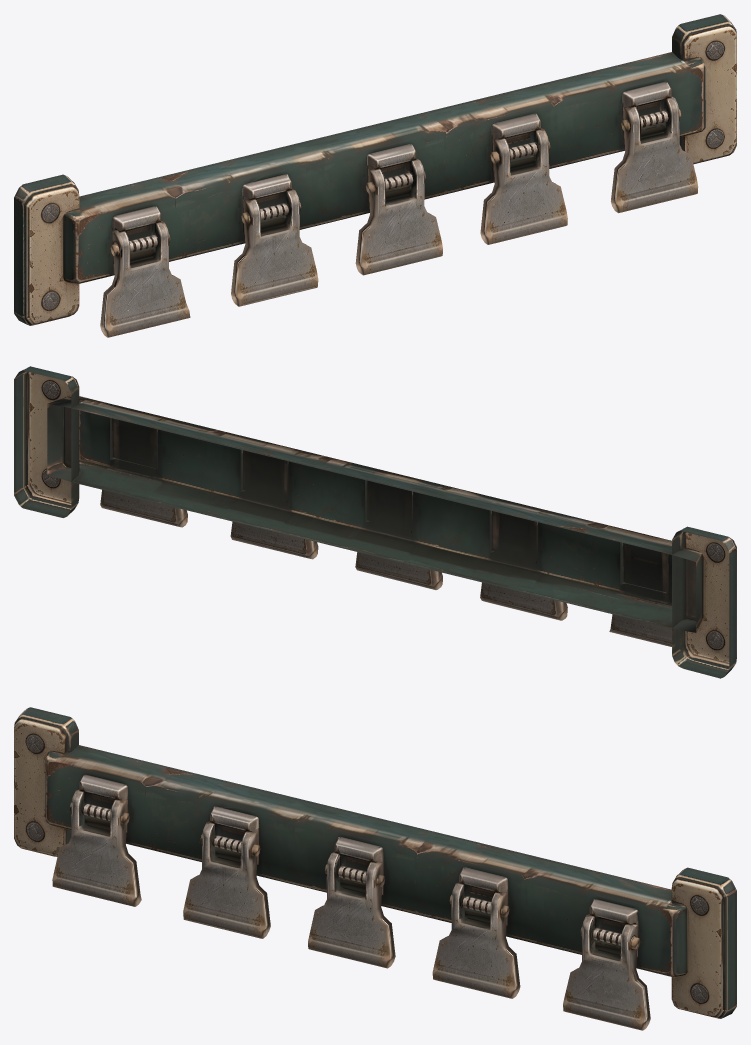
The model's file is P32_order_clip_rail_Runtime_1k.glb.
3 views of the same model, one above another, from view 1: azimuth 30°, elevation 25°; view 2: azimuth 150°, elevation 25°; view 3: azimuth 330°, elevation 25° (orthographic).
Parts seen in each view (by area): view 1: tripo_node_2a619d52; view 2: tripo_node_2a619d52; view 3: tripo_node_2a619d52.
Part boxes in pixels (x1,y1,x2,y2): tripo_node_2a619d52: (14,14,736,337); tripo_node_2a619d52: (14,366,736,678); tripo_node_2a619d52: (14,707,736,1030).
Size of the model in its own units: 0.9 by 0.1745 by 0.0708.
1 material, 1 textured.
